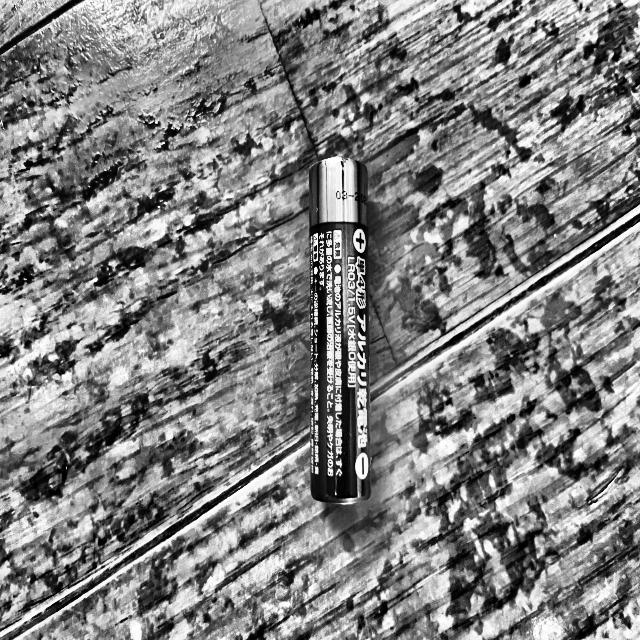drycell: (310, 156, 371, 504)
